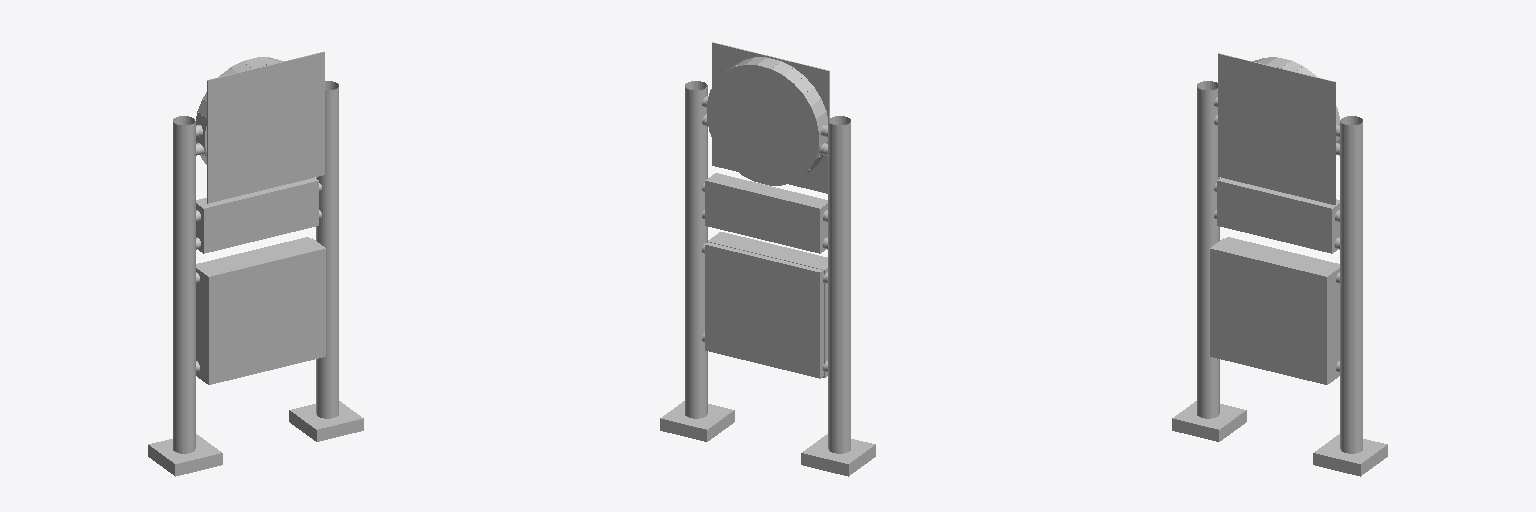
Rendered from thessaloniki_metro_entrance_sign.obj.
3 renders of one model, left to right at view 1: azimuth 30°, elevation 25°; view 2: azimuth 150°, elevation 25°; view 3: azimuth 330°, elevation 25°, orthographic.
Parts seen in each view (by area): view 1: cube; view 2: cube; view 3: cube.
Part boxes in pixels (x1,y1,x2,y2): cube: (148, 52, 363, 476); cube: (660, 42, 875, 476); cube: (1172, 53, 1387, 476).
Size of the model in its own units: 1 by 1.97 by 0.25.